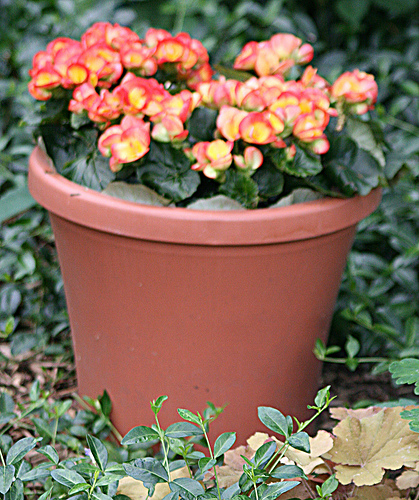tire: (25, 129, 388, 461)
